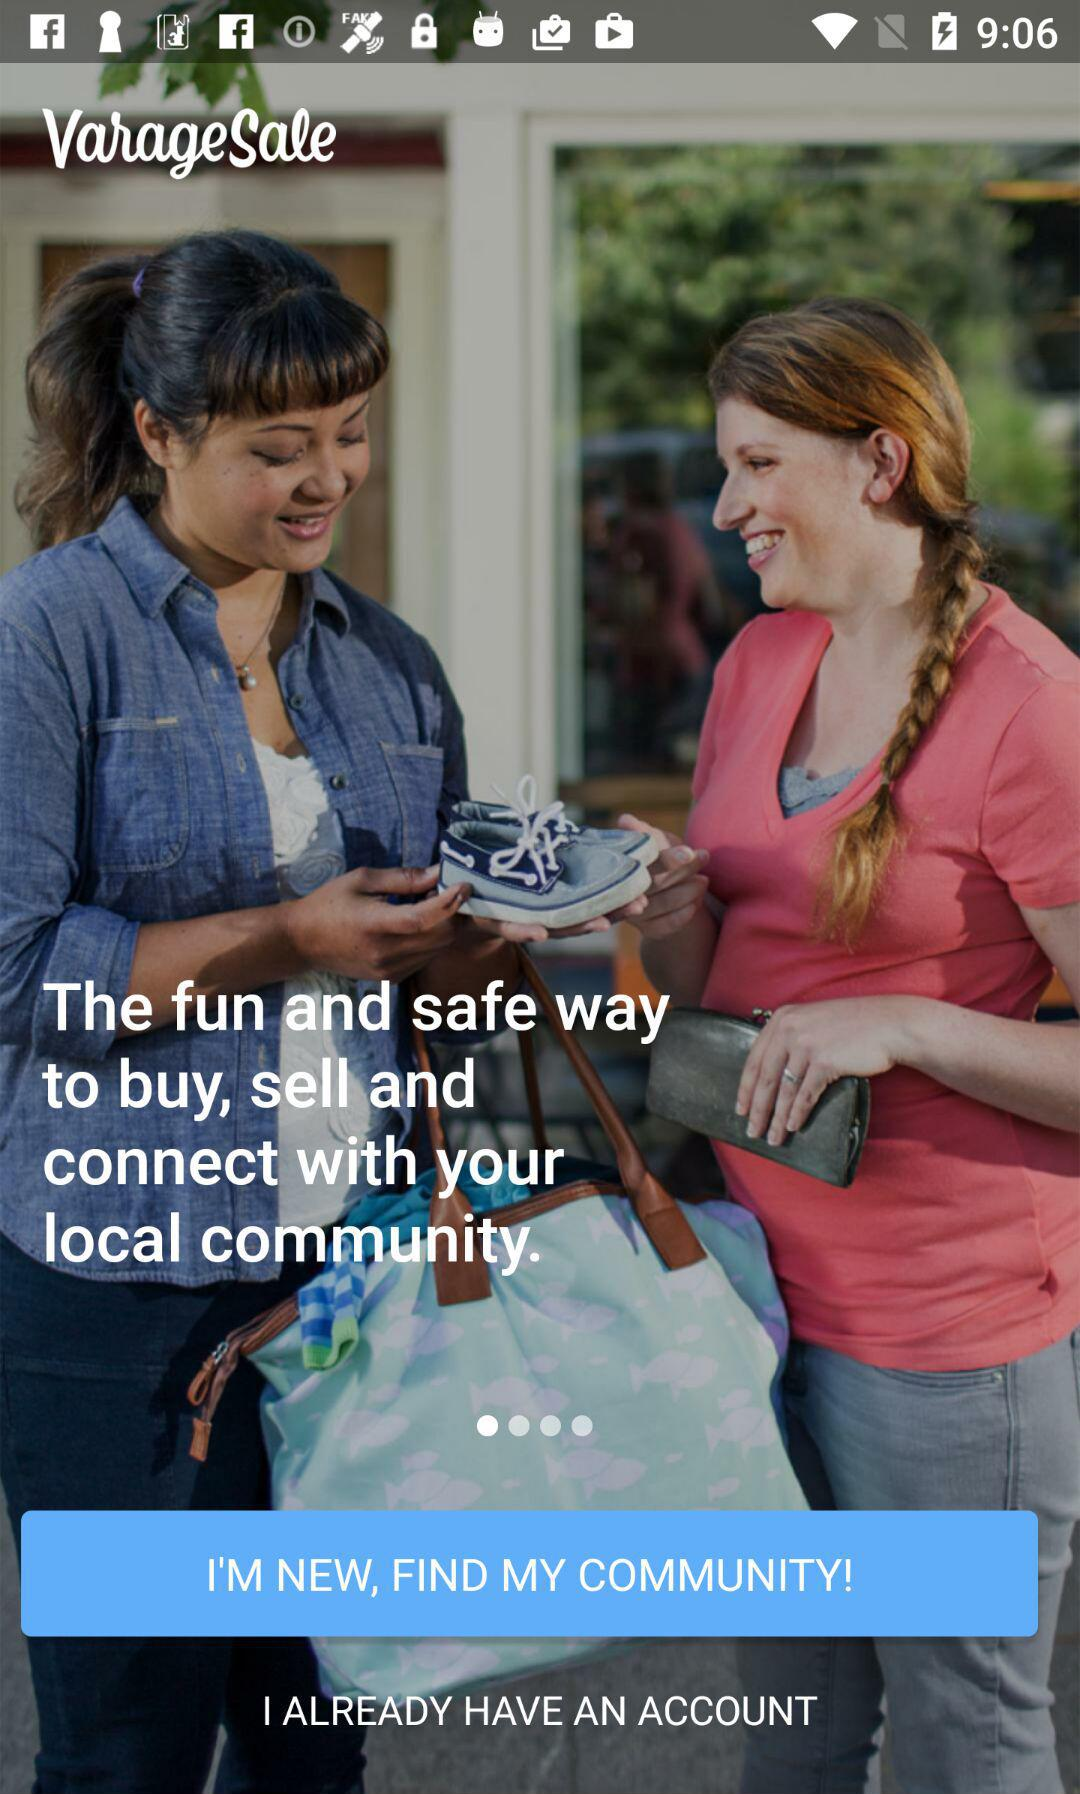BackgroundImage: (1, 64, 1080, 1794)
Image: (41, 108, 338, 181)
PageIndicator: (477, 1413, 594, 1438)
Text: (41, 979, 673, 1278)
TextButton: (20, 1510, 1039, 1636), (265, 1695, 819, 1726)
UpperTaskBar: (1, 1, 1080, 64)
